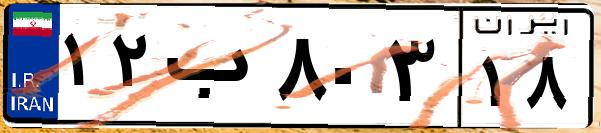0: (330, 28, 385, 110)
1: (57, 26, 110, 100), (475, 38, 525, 113)
2: (110, 28, 158, 98)
3: (385, 28, 445, 110)
8: (270, 28, 330, 110), (525, 38, 570, 115)
ب: (158, 20, 270, 120)
